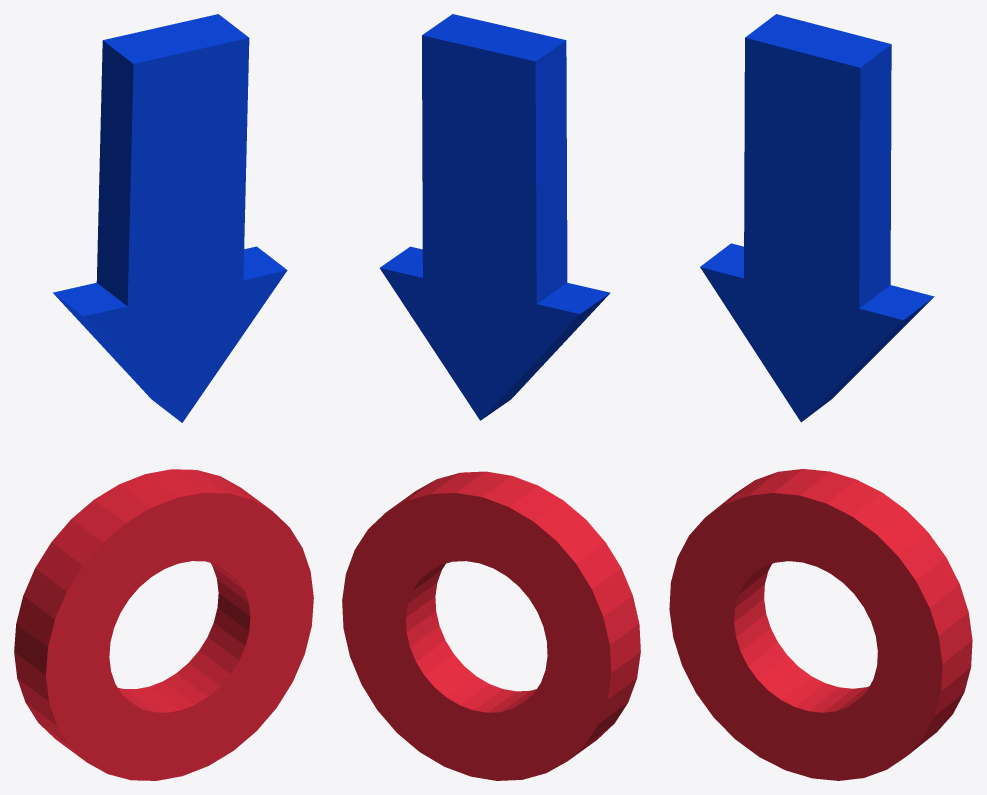
The model's file is arrow.glb.
3 renders of one model, left to right at view 1: azimuth 30°, elevation 25°; view 2: azimuth 150°, elevation 25°; view 3: azimuth 330°, elevation 25°, orthographic.
Visible parts, largest first — view 1: Circle, Arrow; view 2: Circle, Arrow; view 3: Circle, Arrow.
Part boxes in pixels (left/top/right/bottom): Circle: left=14, top=469, right=313, bottom=780; Arrow: left=53, top=14, right=287, bottom=422; Circle: left=342, top=471, right=640, bottom=780; Arrow: left=380, top=14, right=610, bottom=420; Circle: left=669, top=469, right=972, bottom=780; Arrow: left=700, top=14, right=934, bottom=422.
Bounding box in the file's own units: 3.81 × 9.84 × 0.986.
